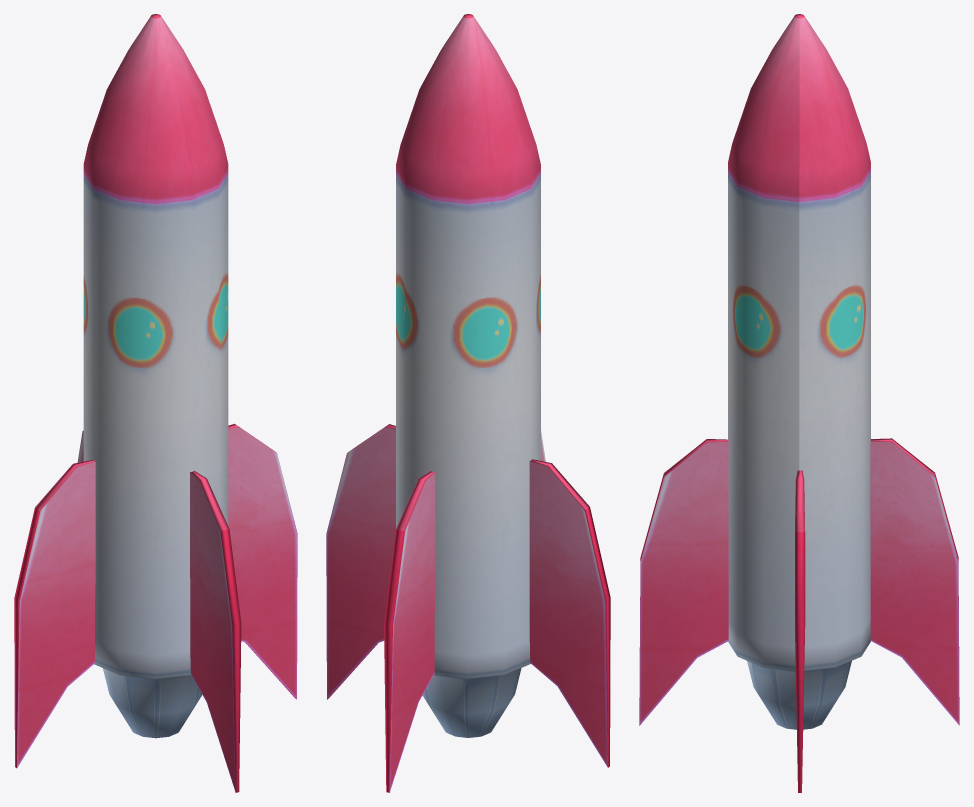
File: roket_v1.fbx
The picture shows the model from 3 angles, left to right: view 1: azimuth 30°, elevation 25°; view 2: azimuth 150°, elevation 25°; view 3: azimuth 270°, elevation 25°; orthographic projection.
Parts seen in each view (by area): view 1: pCylinder2, pCube7, pCube5, pCube4; view 2: pCylinder2, pCube7, pCube5, pCube6; view 3: pCylinder2, pCube6, pCube4, pCube5.
Boxes of the visible parts, x1,y1,x2,y2 form: pCylinder2: (83,14,228,738); pCube7: (14,459,95,768); pCube5: (228,423,297,699); pCube4: (190,471,241,792); pCylinder2: (396,14,540,737); pCube7: (529,459,610,767); pCube5: (326,424,395,699); pCube6: (384,471,435,792); pCylinder2: (728,14,870,729); pCube6: (870,438,959,725); pCube4: (639,439,728,725); pCube5: (795,470,805,792).
Bounding box in the file's own units: 537 × 1312 × 537.
